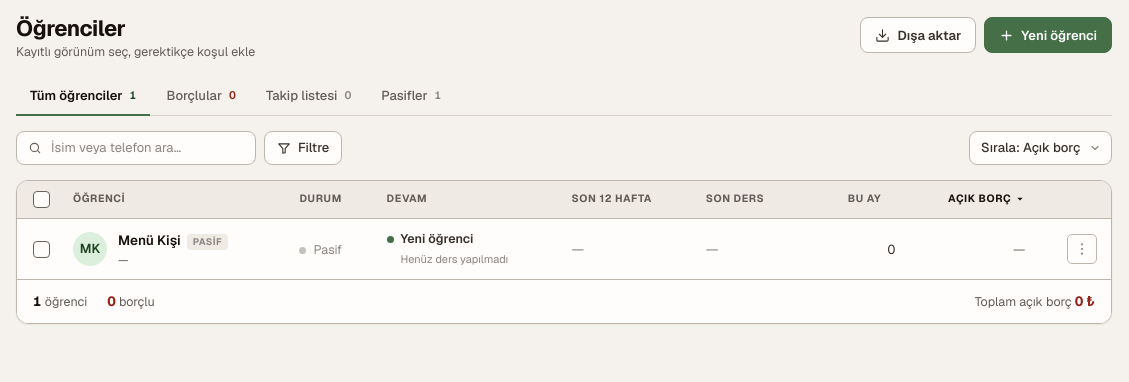
Test: StudentsPage › asistan rolünde pasif öğrencide bile 'Tamamen sil' gösterilmez
The image size is (1129, 382).
Expected: the text "Menü Kişi pasif" is shown, 118,230 -> 228,250
Click the button named "İşlemler".
click(1082, 249)  # box 1067,234 -> 1097,264
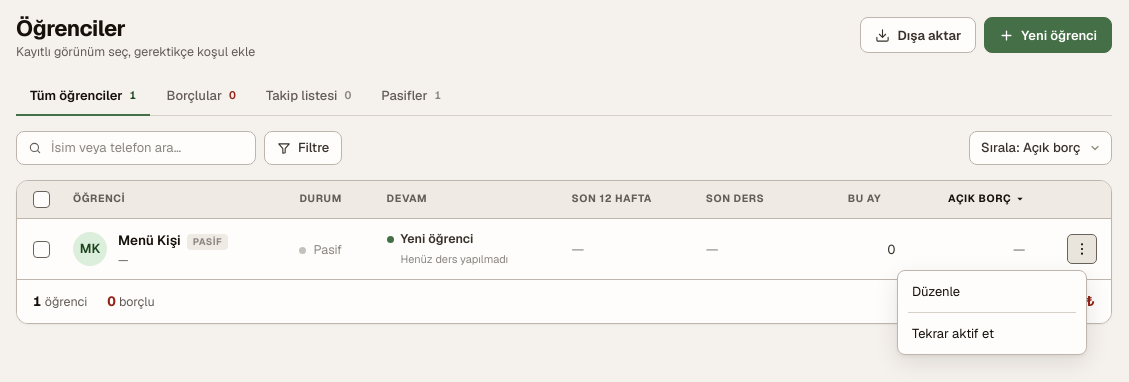
Now the menu item "Tekrar aktif et" is shown, box 902,317 -> 1082,350
